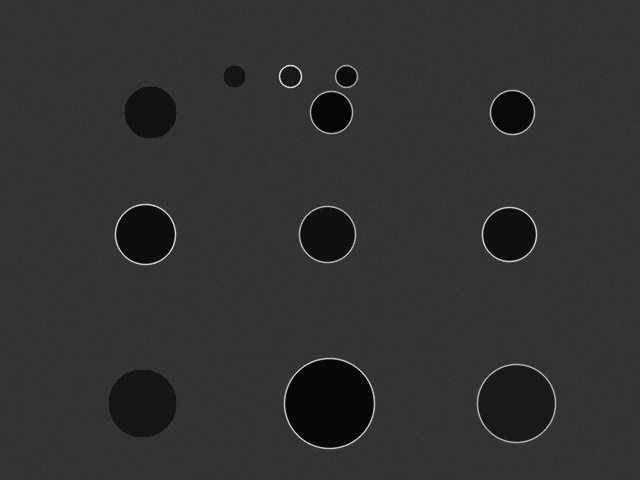hole: (284, 358, 374, 448), (477, 364, 555, 442), (108, 369, 176, 437), (115, 204, 175, 264), (299, 206, 355, 262), (482, 207, 536, 261), (124, 86, 176, 138), (490, 90, 534, 134), (310, 91, 352, 133), (223, 65, 245, 87), (279, 65, 301, 87), (335, 65, 357, 87)
